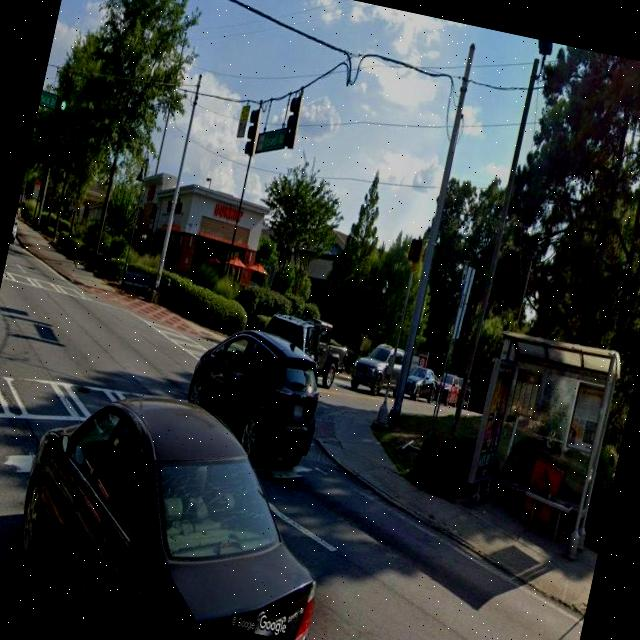seating: (518, 486, 576, 542)
shelter: (456, 328, 624, 560)
